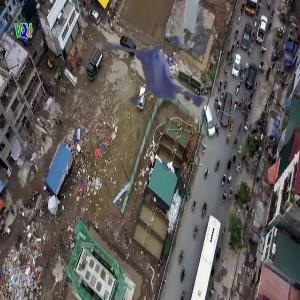drone: (112, 14, 238, 140)
